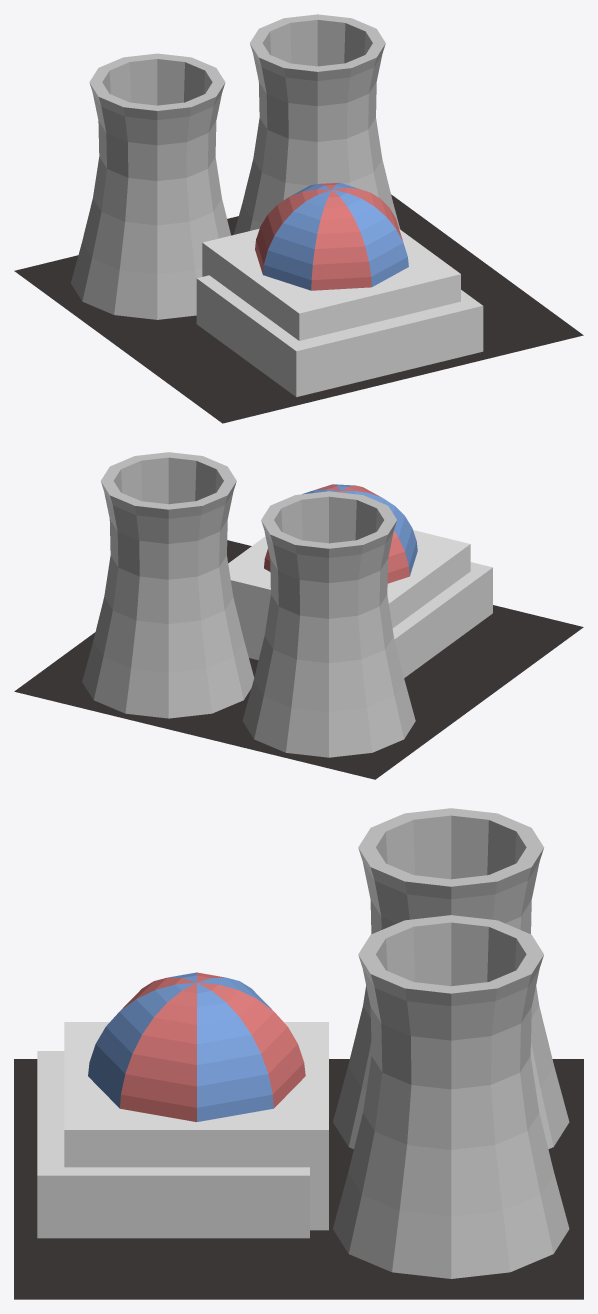
File: PowerPlant.fbx
3 views of the same model, one above another, from view 1: azimuth 30°, elevation 25°; view 2: azimuth 150°, elevation 25°; view 3: azimuth 270°, elevation 25° (orthographic). The views are drawn at different scales.
Parts seen in each view (by area): view 1: Cylinder.001, Cube, Cylinder, Plane, Cube.001; view 2: Cylinder.001, Cylinder, Plane, Cube, Cube.001; view 3: Cylinder, Cube, Plane, Cylinder.001, Cube.001.
Part boxes in pixels (x1=…): Cylinder.001: x1=71, y1=53, x2=230, y2=319; Cube: x1=202, y1=182, x2=460, y2=340; Cylinder: x1=233, y1=14, x2=399, y2=234; Plane: x1=14, y1=194, x2=583, y2=423; Cube.001: x1=196, y1=275, x2=483, y2=396; Cylinder.001: x1=242, y1=491, x2=415, y2=757; Cylinder: x1=82, y1=452, x2=254, y2=718; Plane: x1=14, y1=540, x2=583, y2=779; Cube: x1=228, y1=484, x2=470, y2=660; Cube.001: x1=392, y1=562, x2=492, y2=677; Cylinder: x1=333, y1=915, x2=569, y2=1278; Cube: x1=64, y1=972, x2=328, y2=1230; Plane: x1=14, y1=1059, x2=583, y2=1299; Cylinder.001: x1=333, y1=808, x2=569, y2=1149; Cube.001: x1=37, y1=1051, x2=309, y2=1238.
Size of the model in its own units: 600 by 327 by 600.
